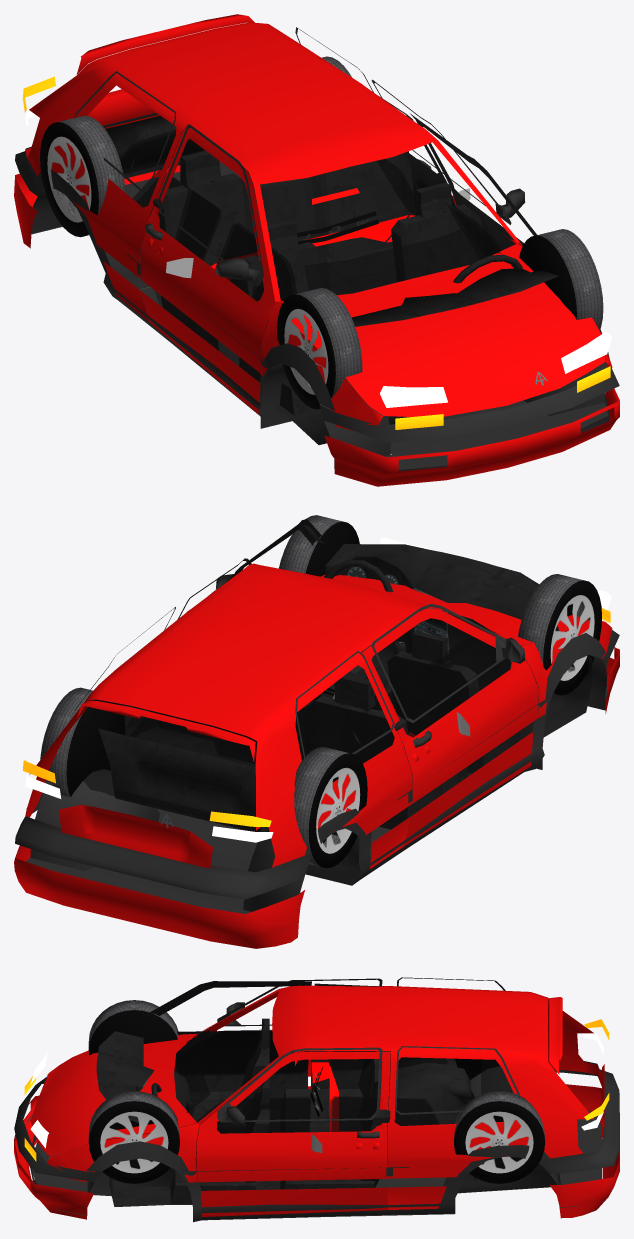
Rendered from car-wolf.glb.
The picture shows the model from 3 angles, top to bottom: view 1: azimuth 30°, elevation 25°; view 2: azimuth 150°, elevation 25°; view 3: azimuth 270°, elevation 25°; orthographic projection. The views are drawn at different scales.
Visible parts, largest first — view 1: Object_9, Object_6, Object_10, Object_14, Object_5, Object_13, Object_7, Object_4, Object_11, Object_2; view 2: Object_9, Object_6, Object_10, Object_14, Object_5, Object_13, Object_7, Object_4; view 3: Object_9, Object_6, Object_10, Object_5, Object_14, Object_13, Object_11, Object_7, Object_4.
Part boxes in pixels (x1,y1,x2,y2): Object_9: (14,14,619,486); Object_6: (105,57,558,444); Object_10: (15,27,619,471); Object_14: (40,56,603,409); Object_5: (119,129,501,348); Object_13: (47,136,328,394); Object_7: (25,107,611,407); Object_4: (22,76,610,429); Object_11: (211,188,415,279); Object_2: (297,211,378,244); Object_9: (14,563,619,948); Object_6: (93,519,592,835); Object_10: (15,558,619,923); Object_14: (40,515,601,868); Object_5: (83,617,536,831); Object_13: (316,595,594,853); Object_7: (25,537,611,842); Object_4: (22,608,610,826); Object_9: (14,985,619,1219); Object_6: (96,981,475,1206); Object_10: (14,977,619,1222); Object_5: (174,1029,513,1168); Object_14: (88,1000,545,1183); Object_13: (100,1111,533,1173); Object_11: (295,1052,338,1131); Object_7: (30,1033,603,1148); Object_4: (24,1019,609,1161).
Size of the model in its own units: 160205 by 104761 by 356219.
Materials: 13 (5 with a texture image).
